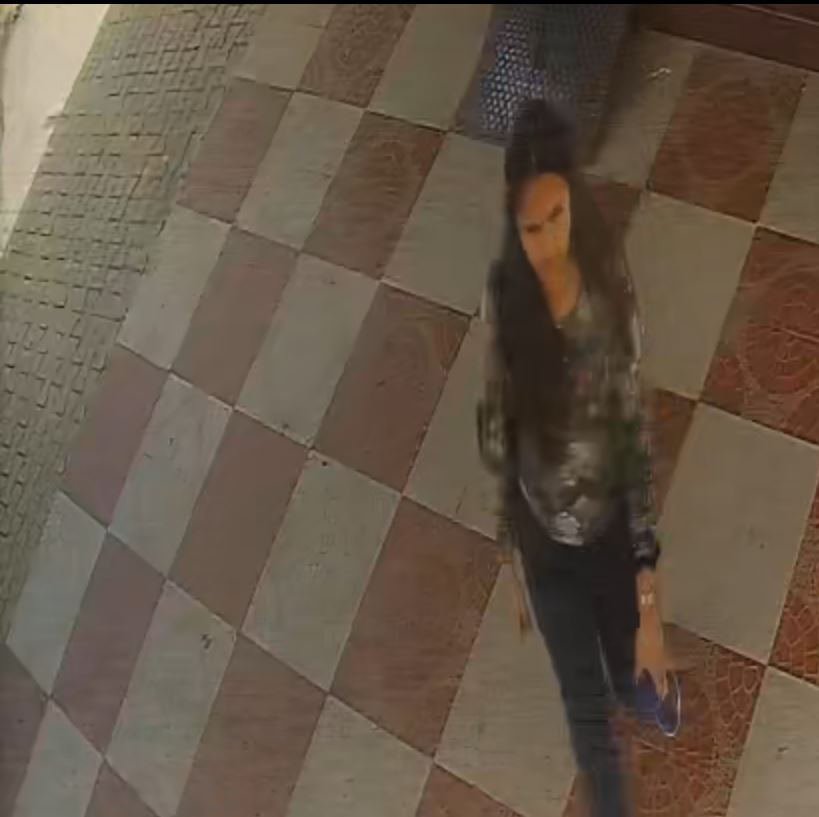intruder: (460, 92, 698, 817)
